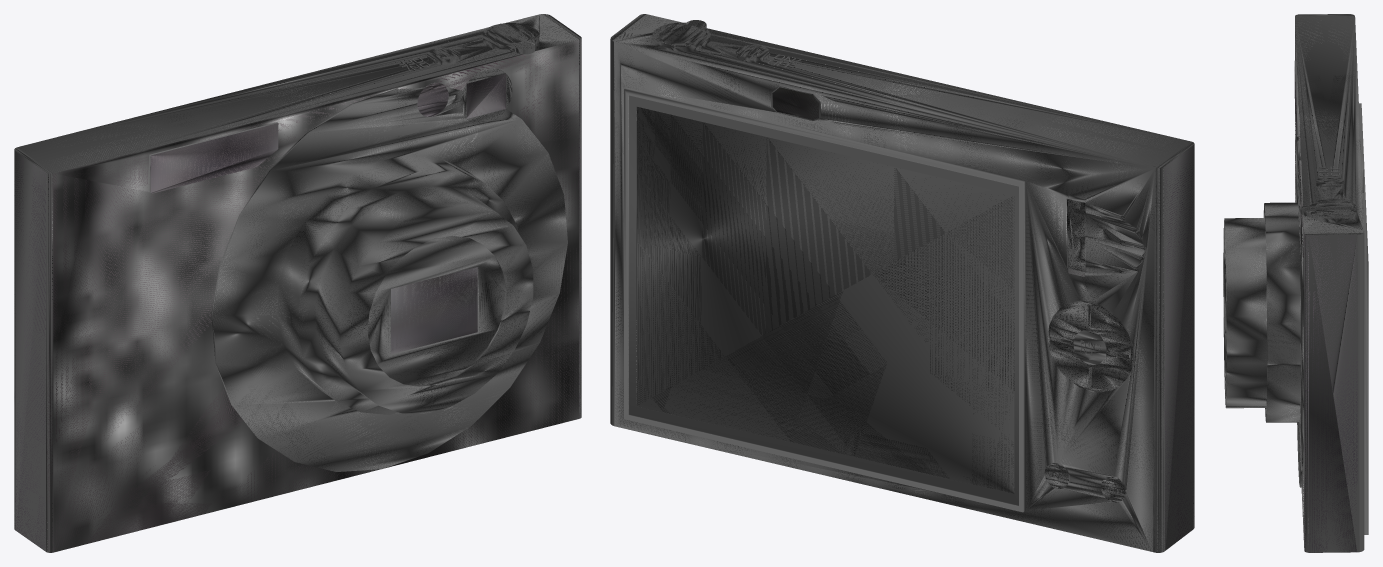
File: model_align.obj
3 renders of one model, left to right at view 1: azimuth 30°, elevation 25°; view 2: azimuth 150°, elevation 25°; view 3: azimuth 270°, elevation 25°, orthographic. The views are drawn at different scales.
Size of the model in its own units: 0.1356 by 0.0929 by 0.0376.
